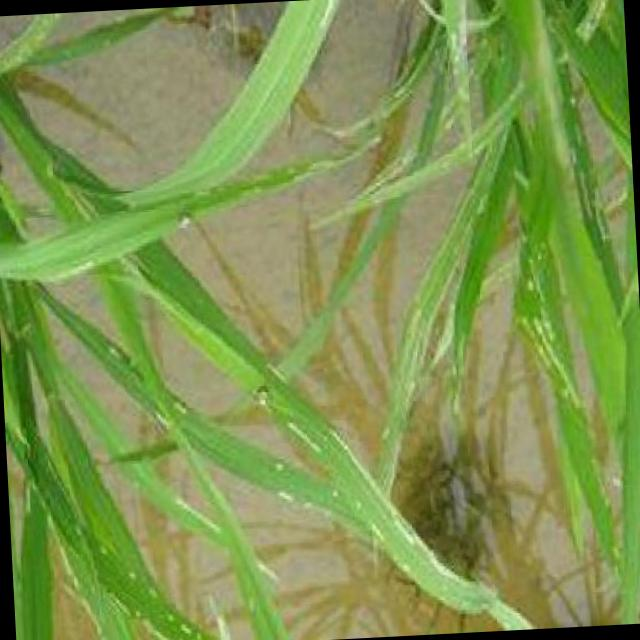rice-bug: (252, 367, 277, 414), (174, 206, 200, 232)
